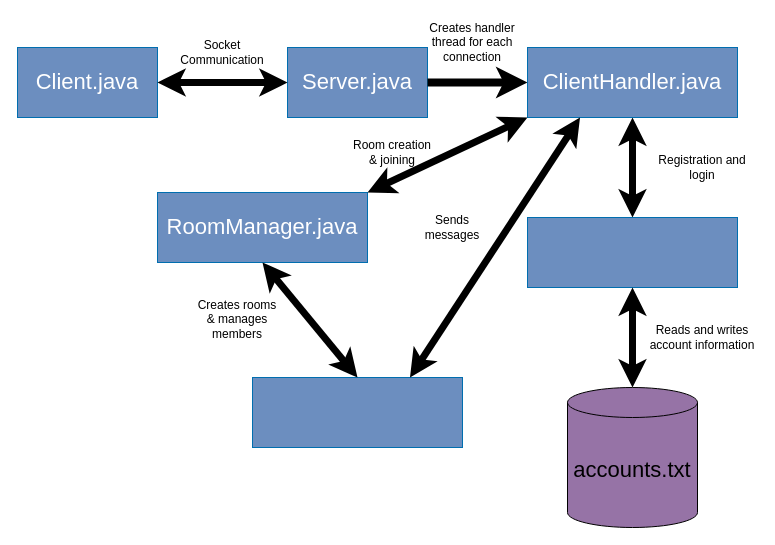
Some shapes in this 775 by 545 pixel diagram are drawn without their labels. The shapes that lost their labels are listed below. From the top down, each one's centre as x and y in pixels, then its label:
At (632,252): "UserManager.java".
At (357,412): "ChatRoom.java".
